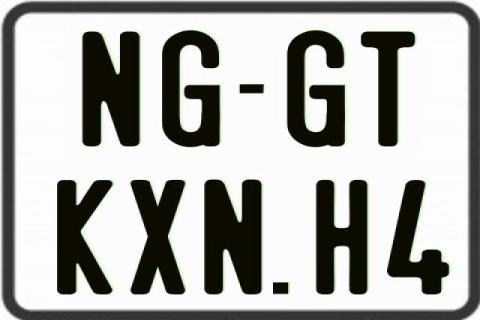0: (385, 178, 453, 296)
G: (162, 29, 222, 149), (286, 29, 346, 147)
H: (314, 180, 364, 297)
K: (56, 179, 117, 295)
N: (202, 179, 264, 297), (82, 30, 141, 146)
T: (361, 31, 416, 149)
X: (128, 180, 188, 297)
